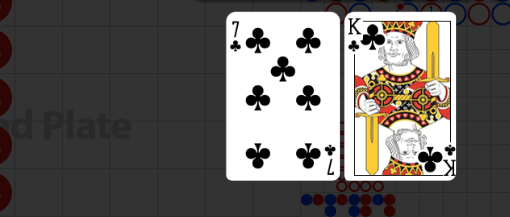7C: (229, 19, 243, 54)
KC: (346, 16, 364, 57)
